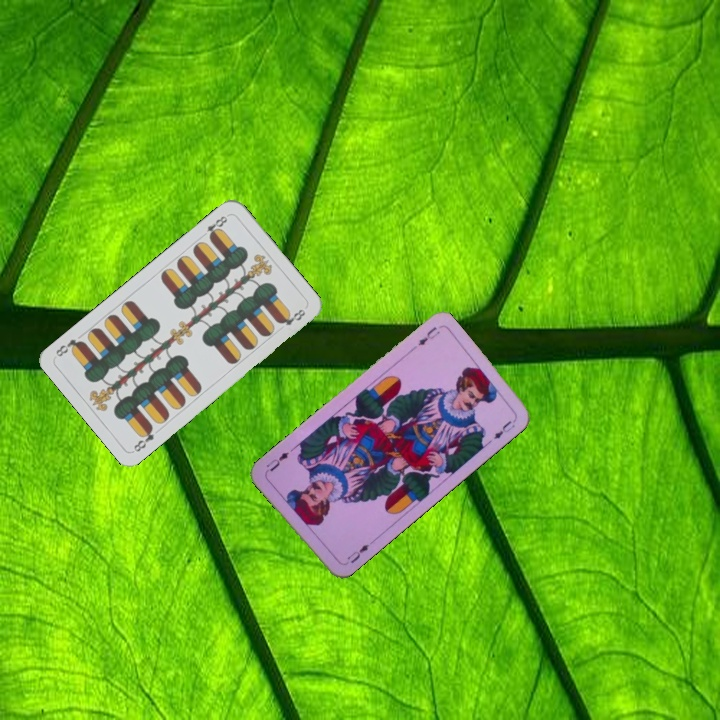E8: (197, 211, 232, 242), (129, 422, 156, 455)
EU: (343, 538, 375, 566), (414, 323, 442, 348)
